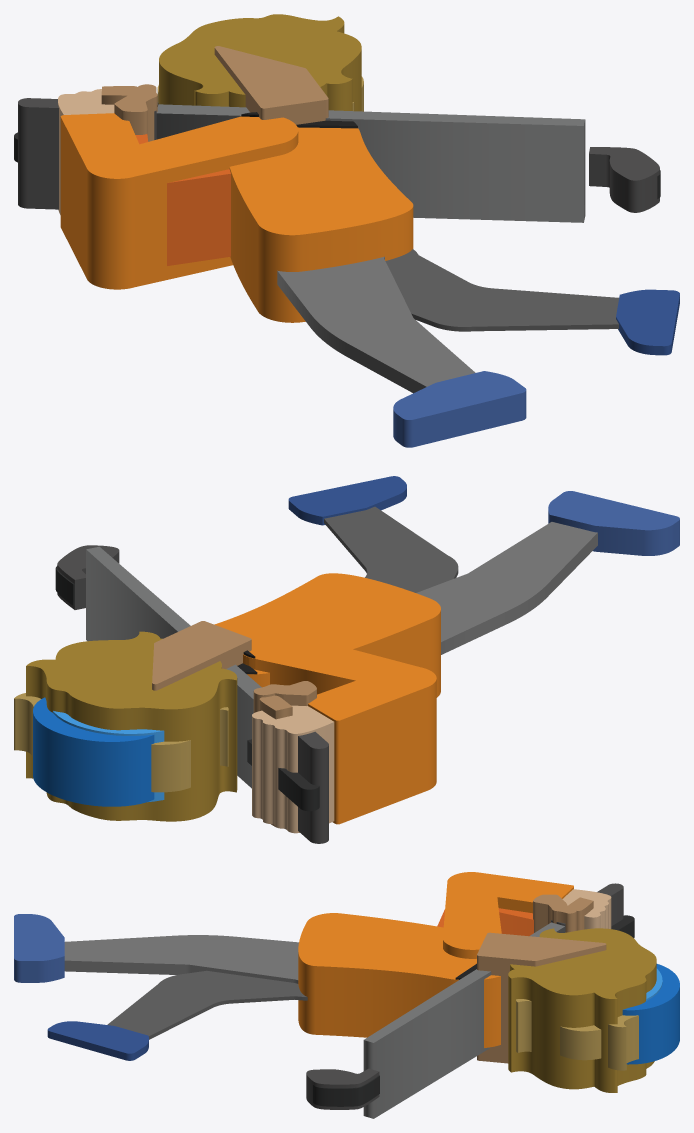
File: emoji_u1f3cc_1f3fc.glb
3 views of the same model, one above another, from view 1: azimuth 30°, elevation 25°; view 2: azimuth 150°, elevation 25°; view 3: azimuth 270°, elevation 25° (orthographic). The views are drawn at different scales.
Parts seen in each view (by area): view 1: emoji_u1f3cc_1f3fc; view 2: emoji_u1f3cc_1f3fc; view 3: emoji_u1f3cc_1f3fc.
Part boxes in pixels (x1,y1,x2,y2): emoji_u1f3cc_1f3fc: (14, 14, 679, 447); emoji_u1f3cc_1f3fc: (14, 476, 679, 843); emoji_u1f3cc_1f3fc: (14, 872, 679, 1118).
Bounding box in the file's own units: 0.0216 × 0.0058 × 0.0334.
